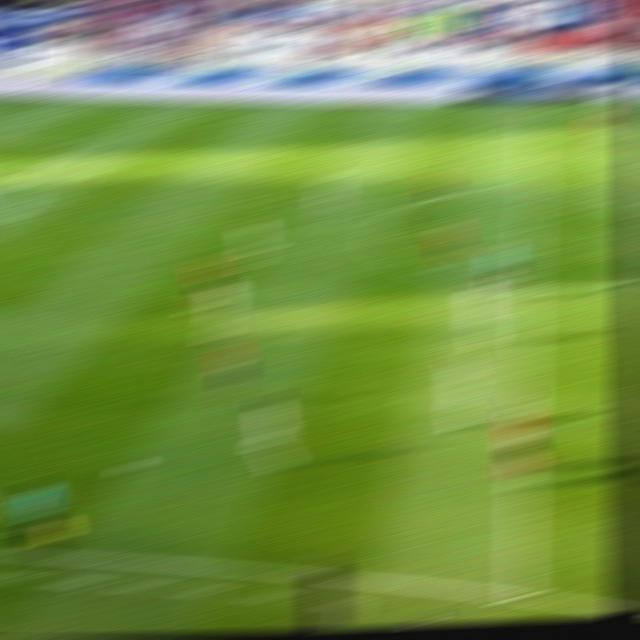bigarea_top_inner: (67, 134, 98, 151)
halfcircle_bottom: (510, 273, 546, 300)
halfcircle_top: (513, 176, 550, 201)
midline_bottom_intersection: (498, 576, 541, 606)
midline_top_intersection: (517, 104, 547, 123)
top_arc_area_intersection: (0, 172, 32, 194)
